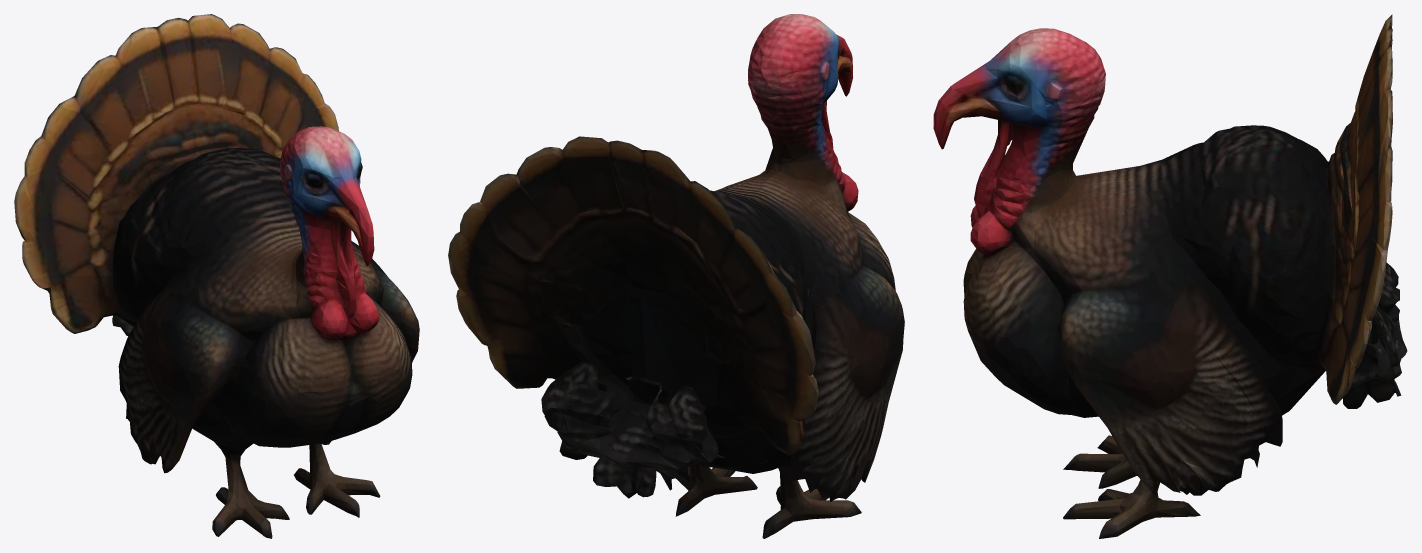
Rendered from wild_turkey.glb.
3 renders of one model, left to right at view 1: azimuth 30°, elevation 25°; view 2: azimuth 150°, elevation 25°; view 3: azimuth 270°, elevation 25°, orthographic. The views are drawn at different scales.
Parts seen in each view (by area): view 1: geometry_0; view 2: geometry_0; view 3: geometry_0.
Part boxes in pixels (box(x1,y1,x2,y2)): geometry_0: box(14, 14, 419, 538); geometry_0: box(448, 14, 904, 538); geometry_0: box(933, 14, 1407, 538).
Bounding box in the file's own units: 0.8384 × 0.9993 × 0.9257.
Materials: 1 (1 with a texture image).
